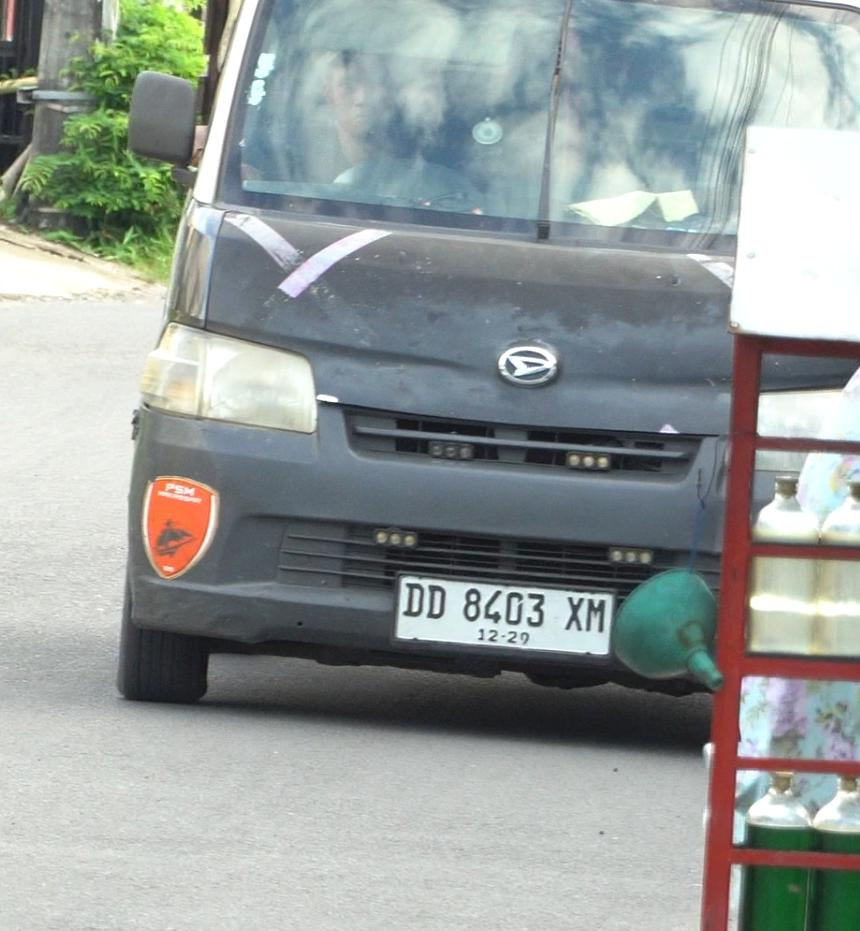number-plate: (400, 571, 619, 665)
